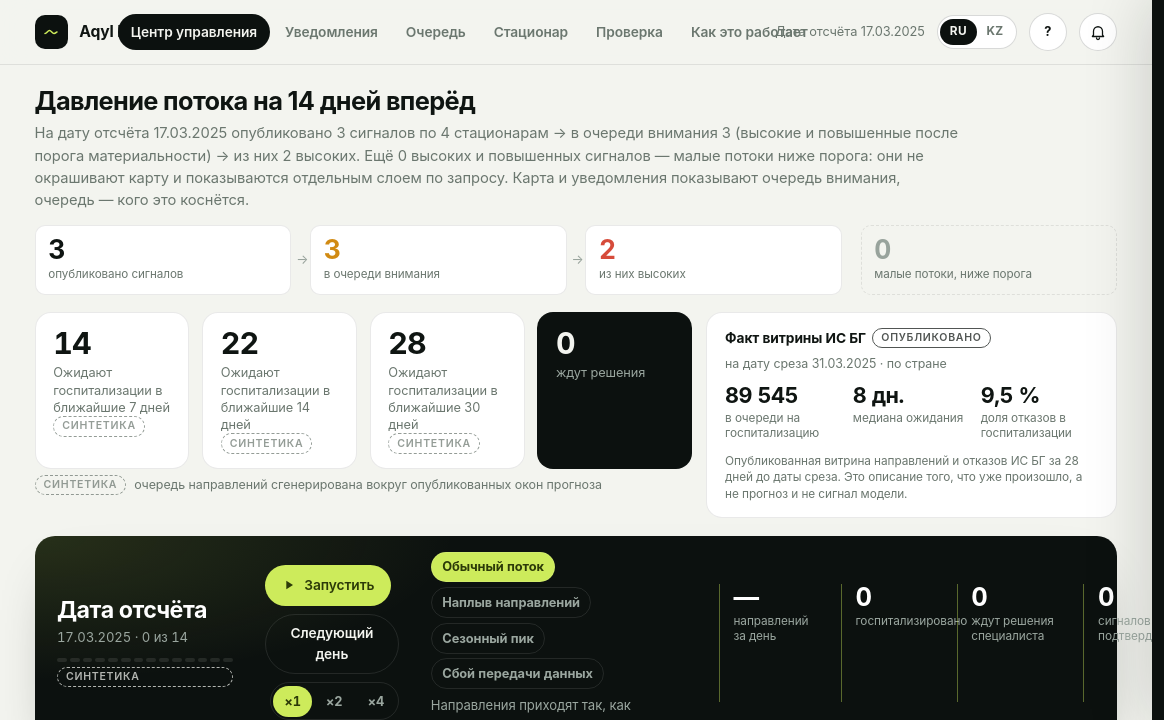
Test: Control centre › the clock walks through the day and stops when the model asks the specialist
This screenshot has width=1164, height=720.
Click the button "Запустить".
click(328, 585)  # box [265, 565, 391, 606]
Wait 6000 ms
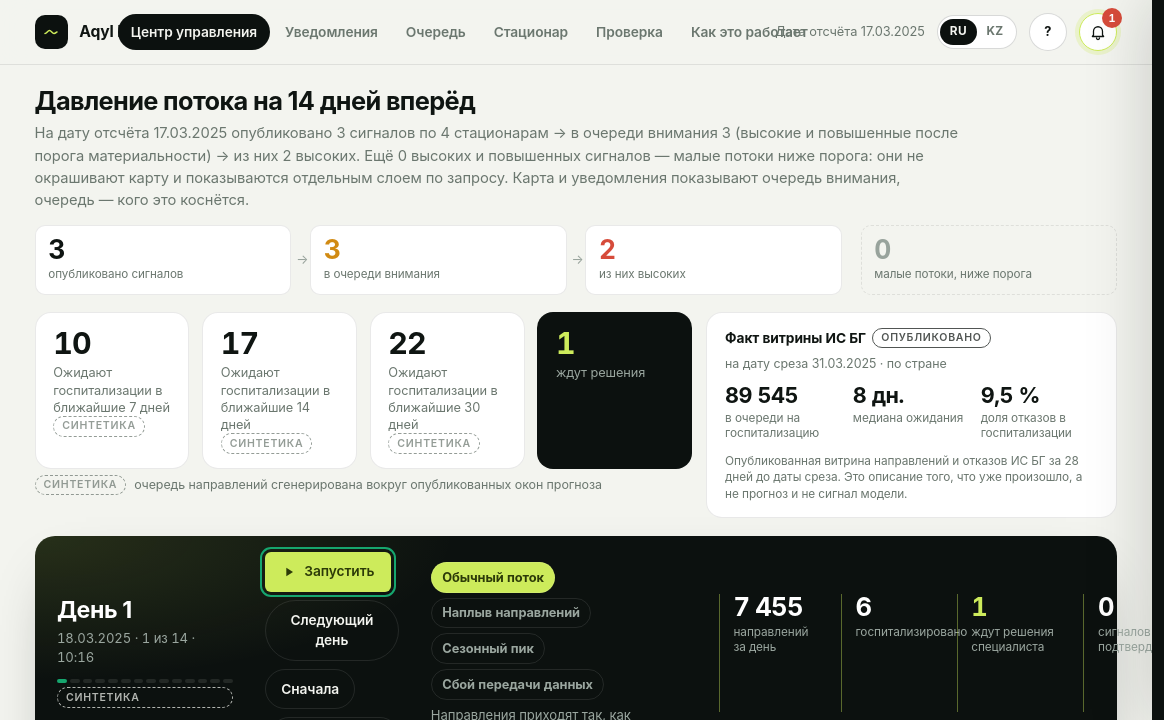
expect the button named "Задачи специалиста" reads "1": met, box [1079, 13, 1118, 51]
